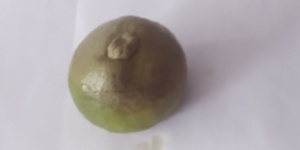BAD: (69, 16, 188, 132)
